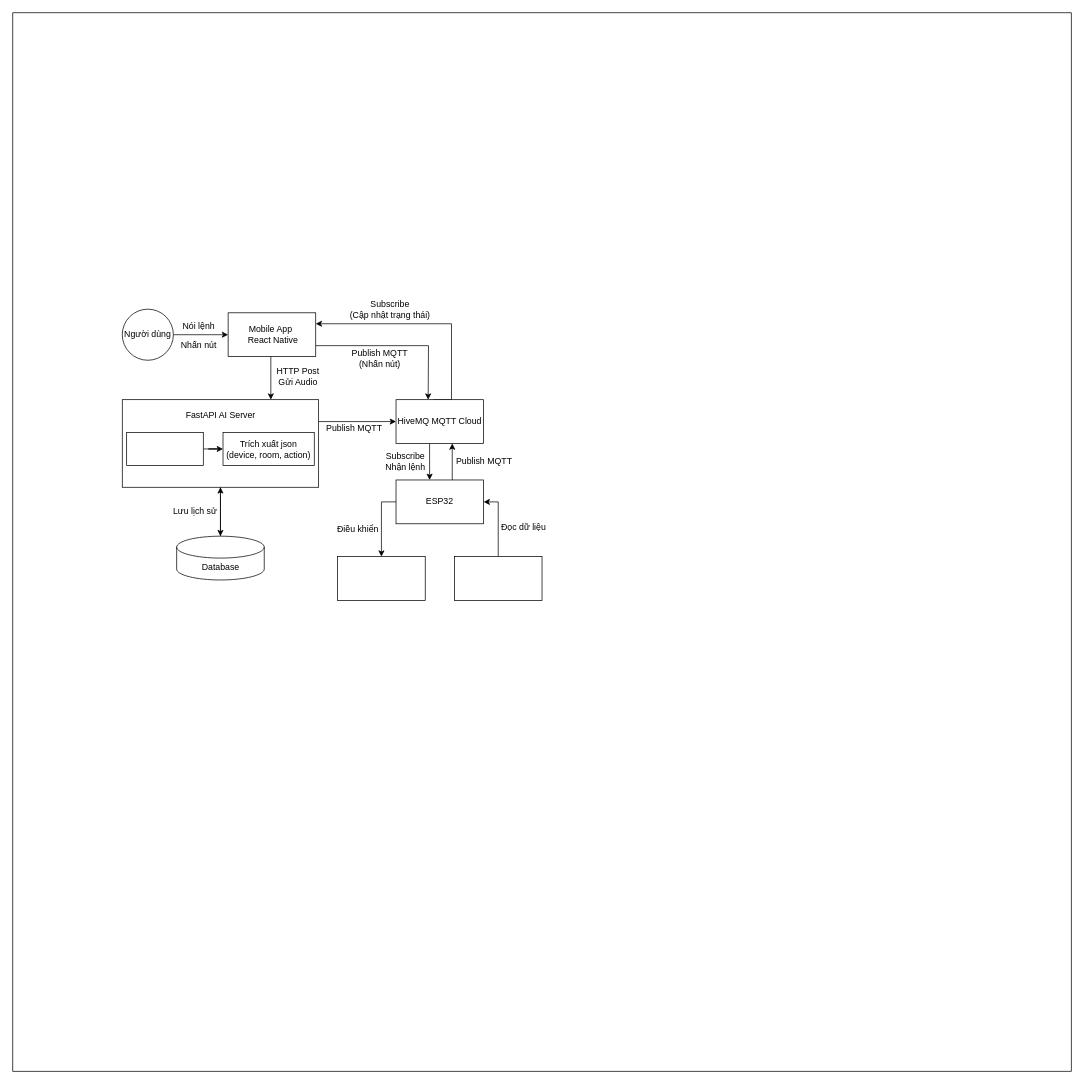
Some shapes in this 1084 by 1084 pixel diagram are drawn without their labels. Each missing label, with the centre of its shape:
"AI Model (Xử lý âm thanh)" belongs at (164,448).
"DHT11 MQ2" belongs at (498,578).
"Relay, Servo, Buzzer, Led" belongs at (381,578).
